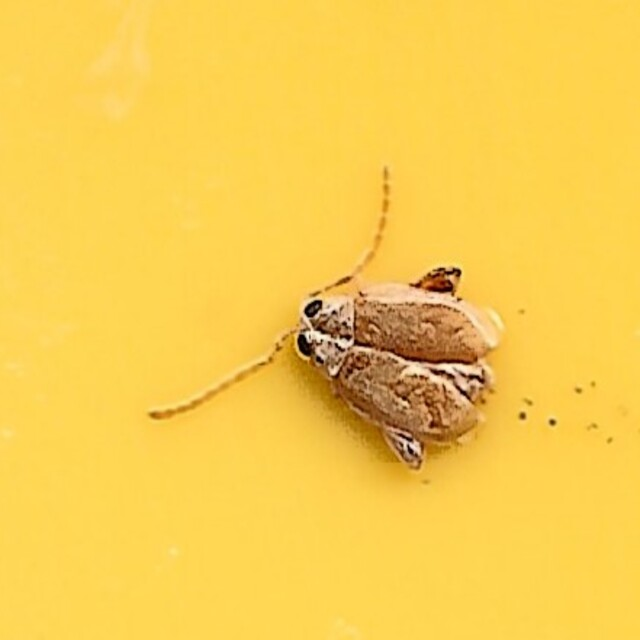Brachycera: (145, 171, 495, 469)
